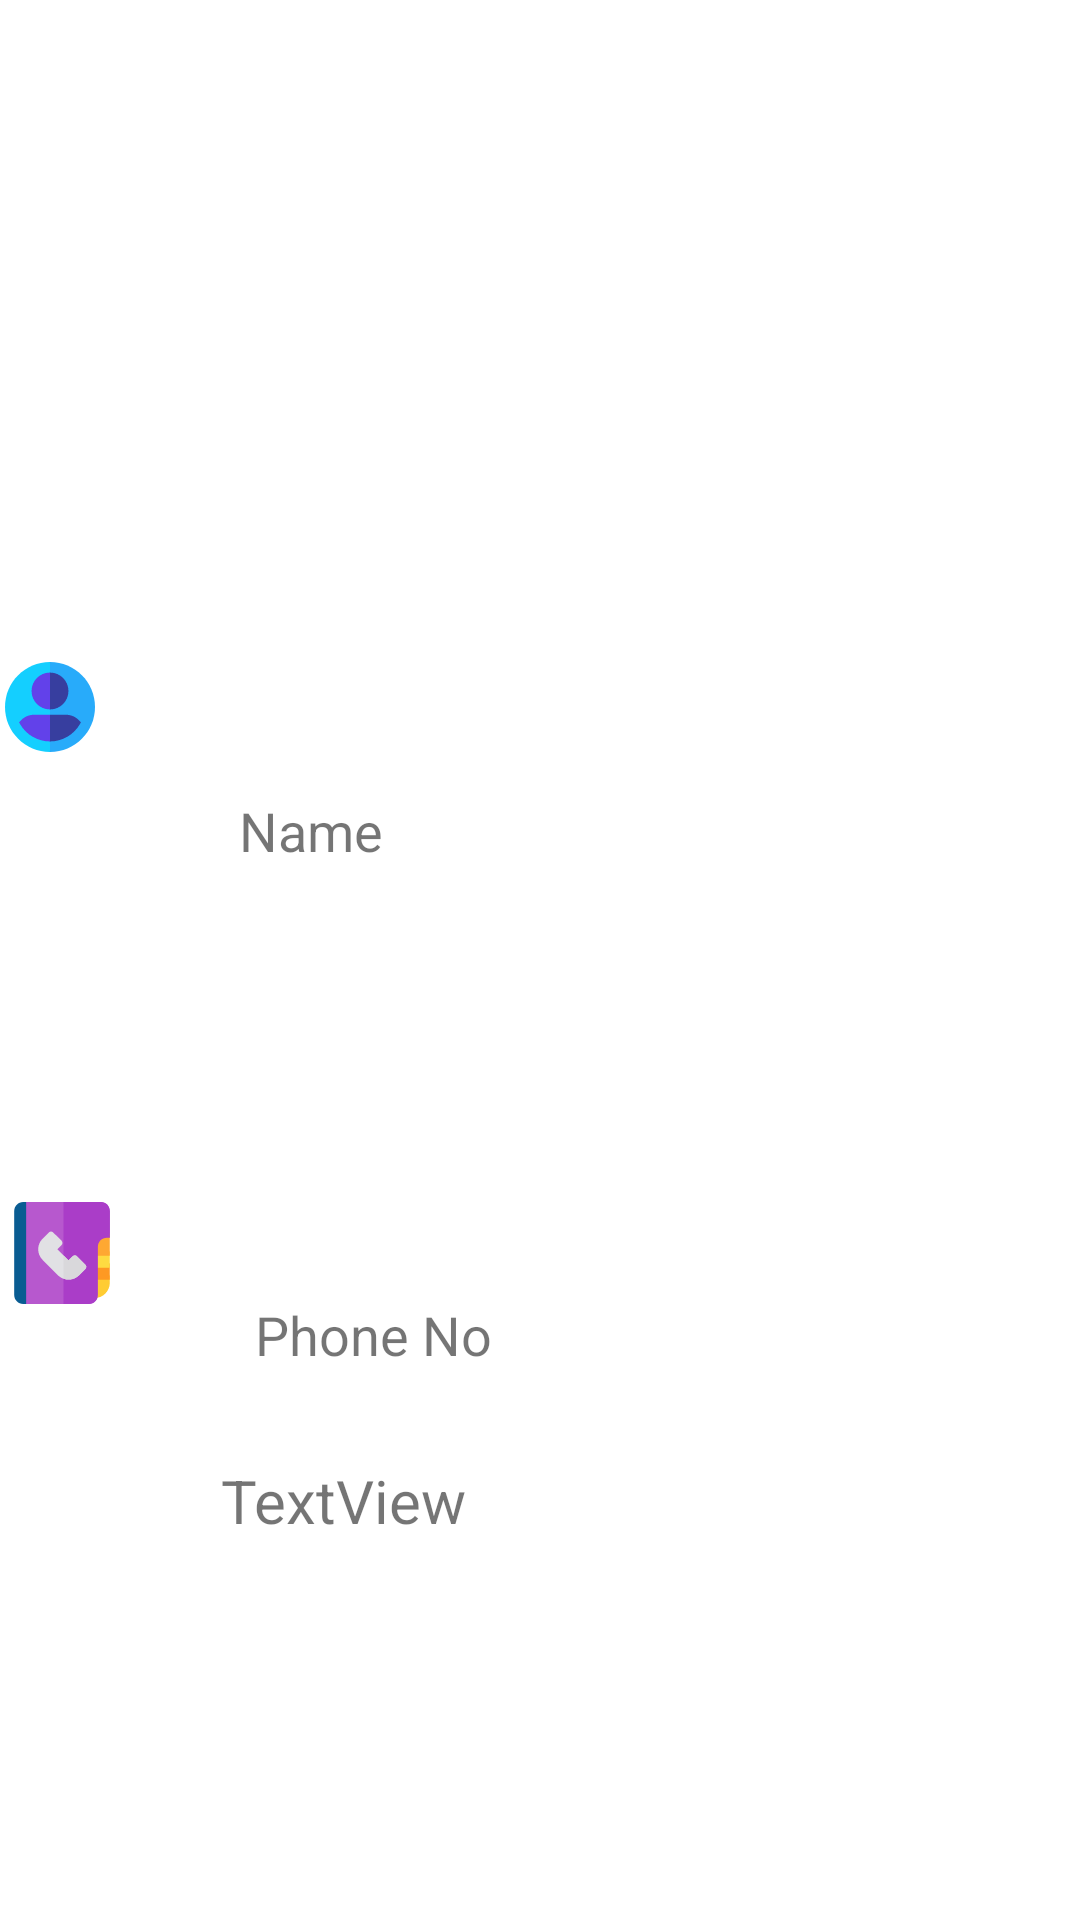

Locate icon controls on the screen. Image size 1080w x 1920h, boxes as Rect(x1, y1, x2, y2).
phone number: Rect(14, 1202, 110, 1304)
user: Rect(5, 662, 95, 752)
